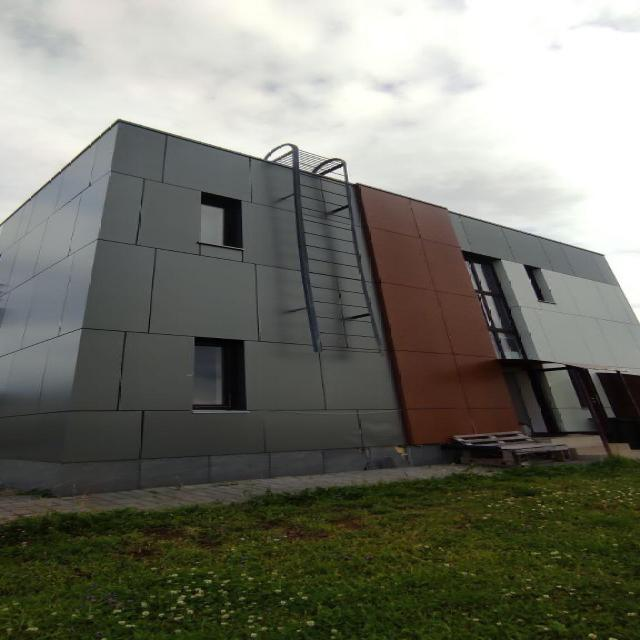Building: (4, 122, 640, 497)
